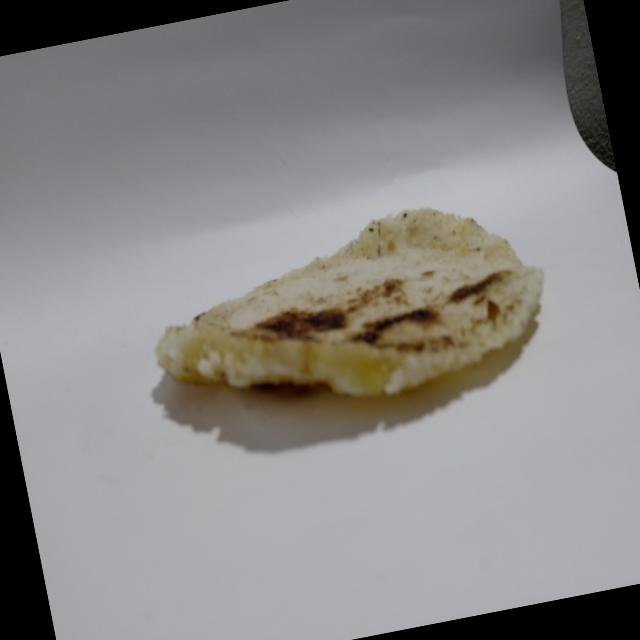Mbeju: (121, 168, 574, 468)
